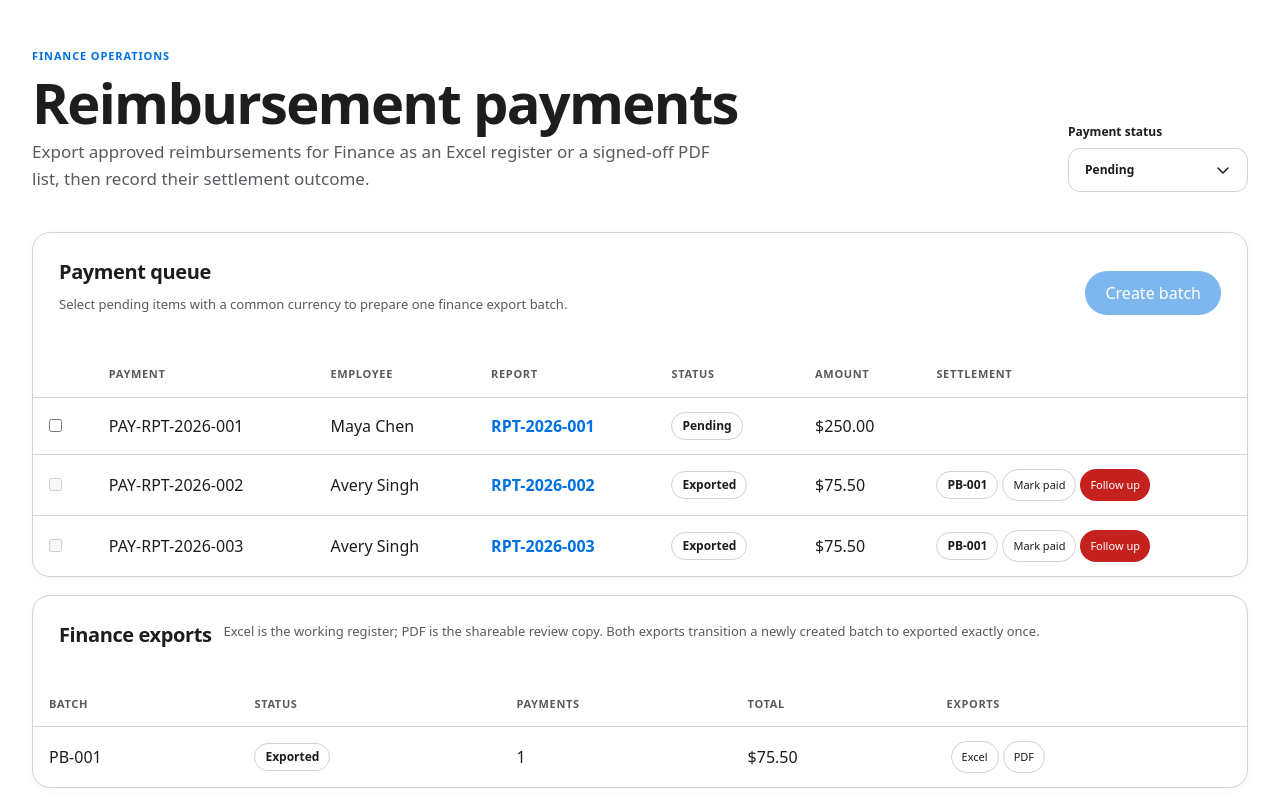
Test case: PaymentsPage › does not carry a provider reference from one payment dialog to another
Expected: the text "PAY-RPT-2026-002" is shown, [93, 454, 314, 516]
Click the button "Mark paid" in the row of "PAY-RPT-2026-002".
click(1039, 485)  # box [1002, 469, 1076, 501]
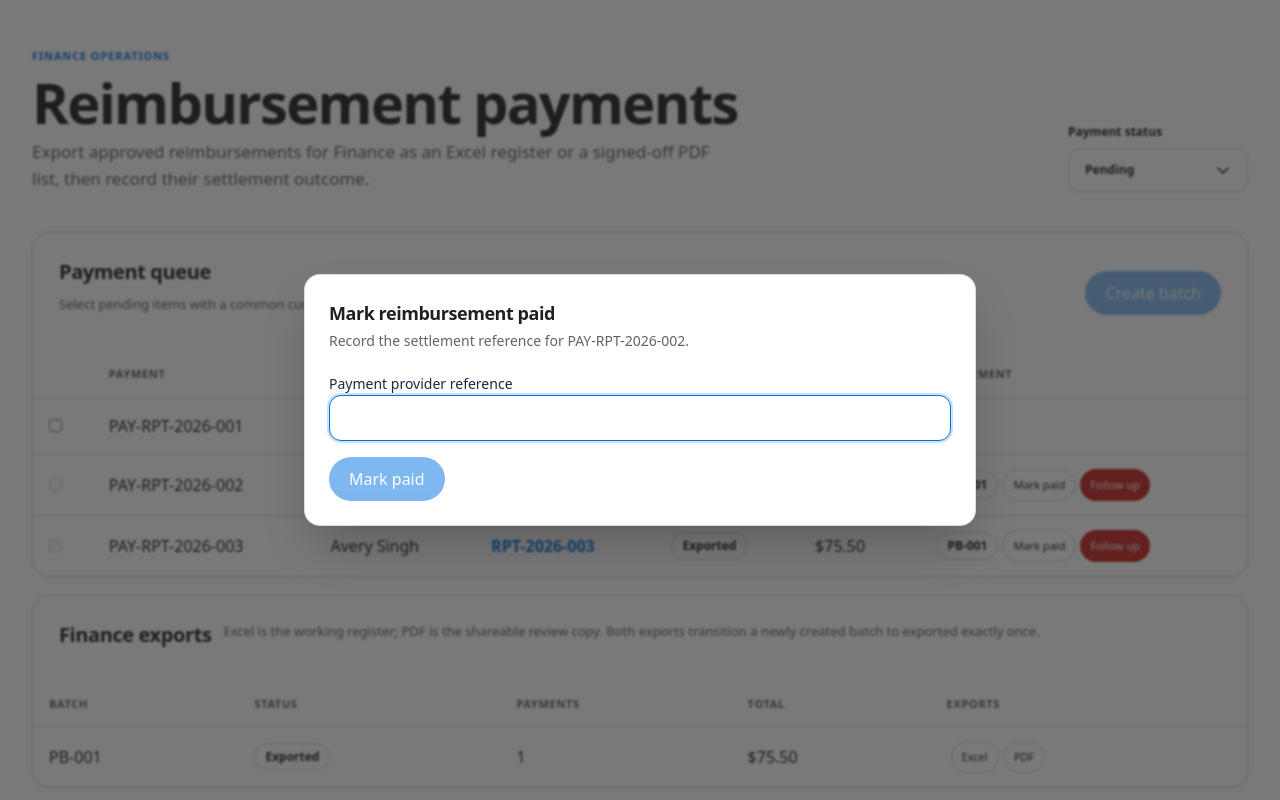
Type "PROV-A" into the field labelled "Payment provider reference".
click(640, 418); type("PROV-A")  # box [329, 395, 951, 441]
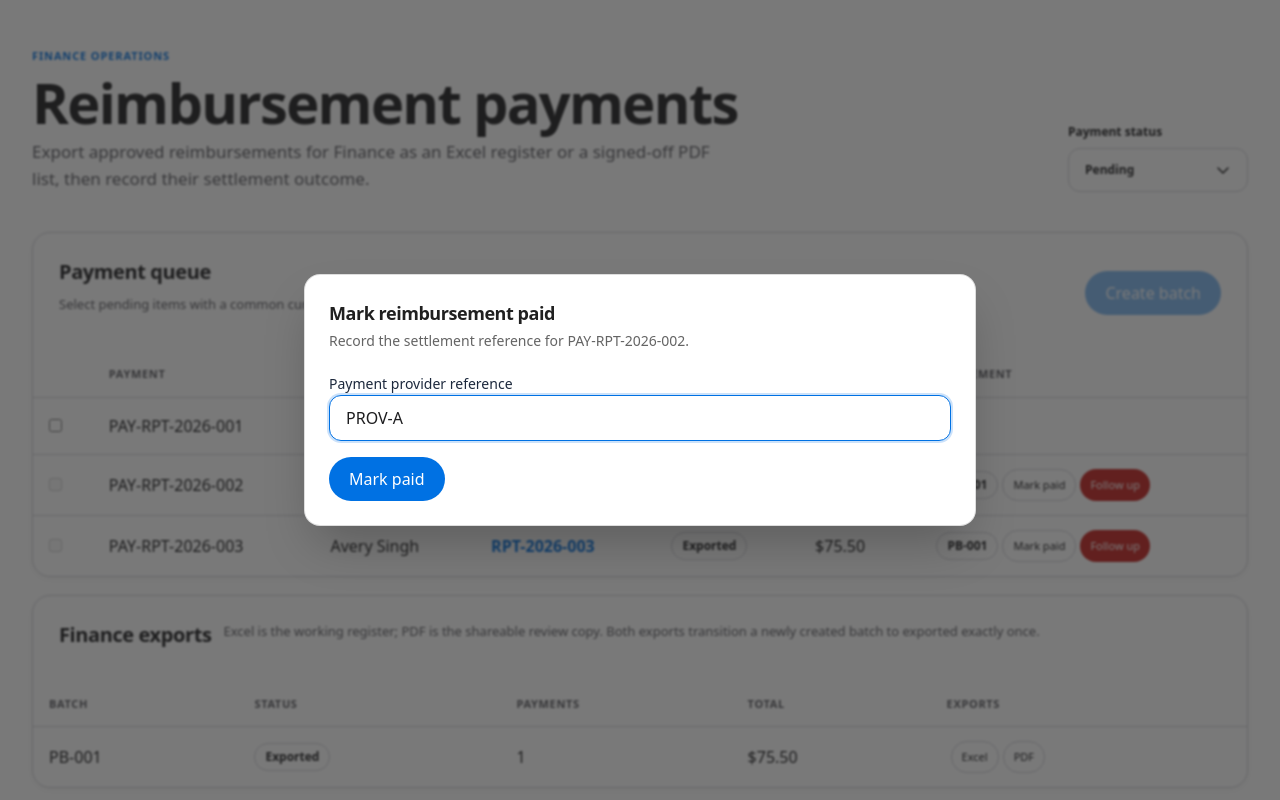
Press Escape
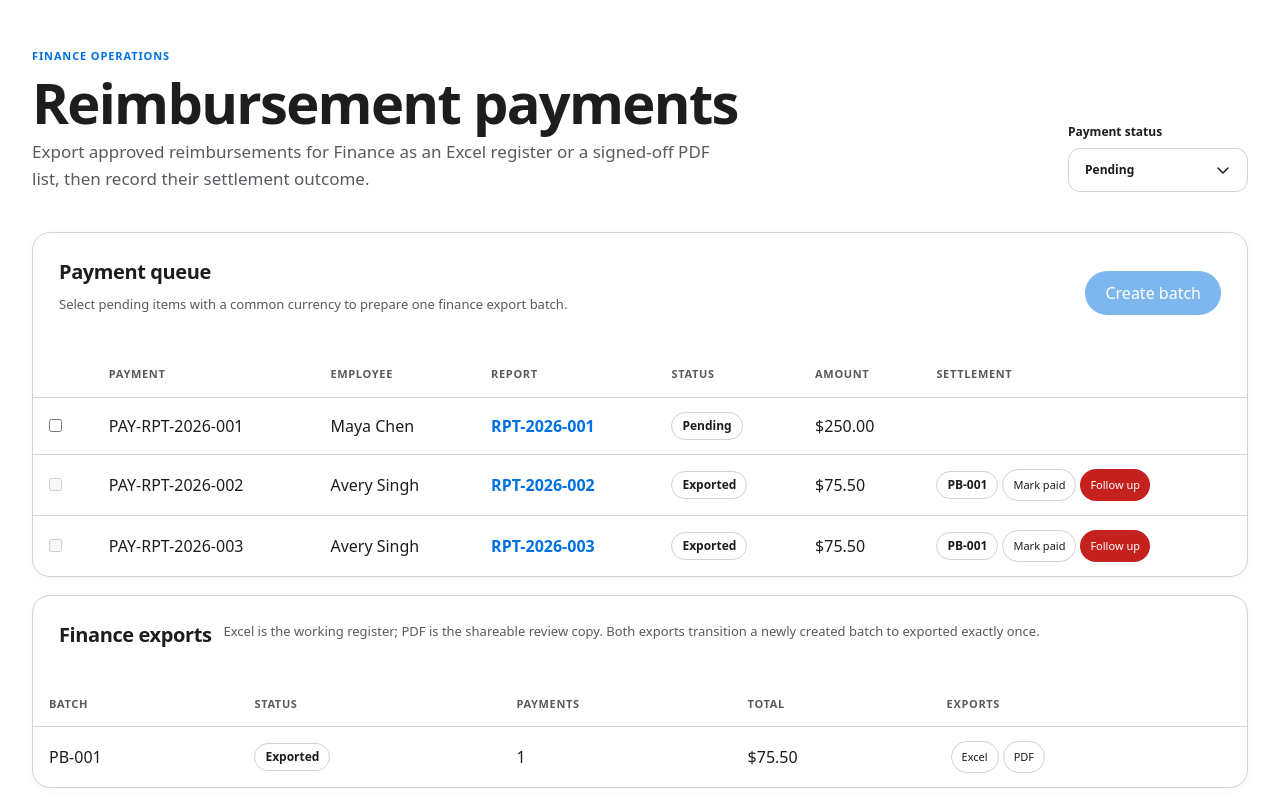
Result: the dialog is gone
Click the button "Mark paid" in the row of "PAY-RPT-2026-003".
click(1039, 546)  # box [1002, 530, 1076, 562]
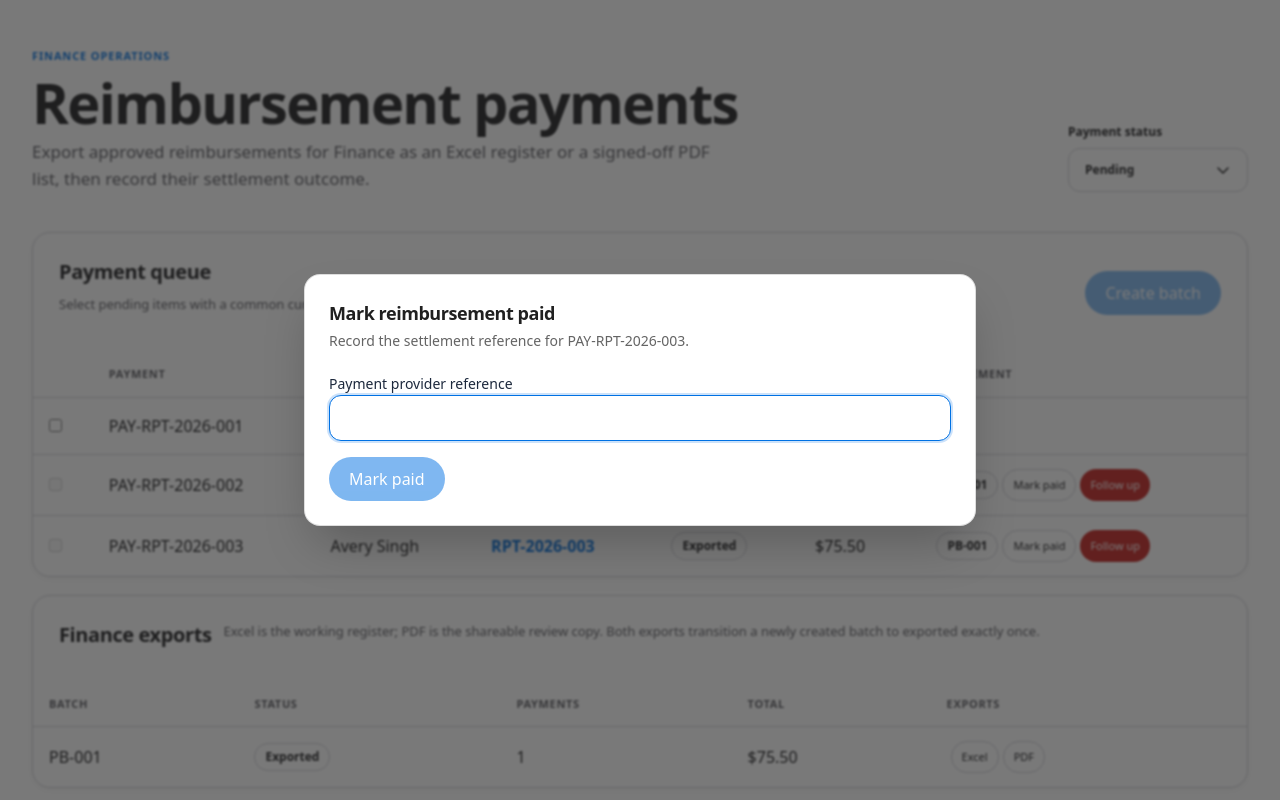
Result: the field labelled "Payment provider reference" is empty at [329, 395, 951, 441]
Result: the text "Record the settlement reference for PAY-RPT-2026-003." is shown at [329, 331, 689, 350]
